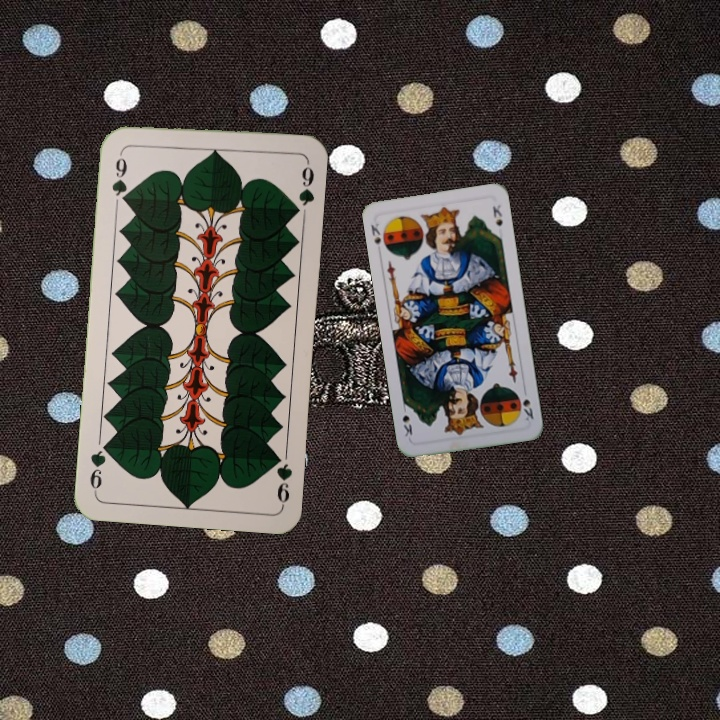G9: (269, 448, 295, 508), (107, 146, 130, 206)
SK: (519, 384, 536, 424), (366, 220, 383, 247)
